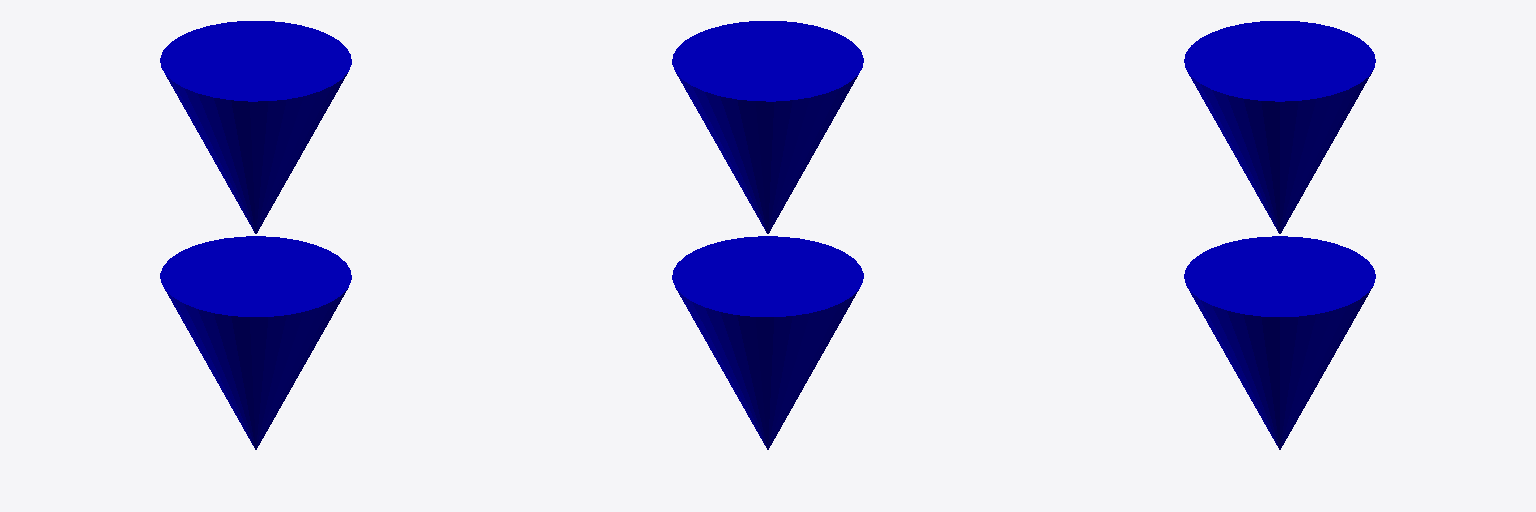
Rendered from indicationArrow.obj.
3 views of the same model, side by side, from view 1: azimuth 30°, elevation 25°; view 2: azimuth 150°, elevation 25°; view 3: azimuth 270°, elevation 25° (orthographic).
Parts seen in each view (by area): view 1: Cone_Cone.002, Cone.001; view 2: Cone_Cone.002, Cone.001; view 3: Cone_Cone.002, Cone.001.
Boxes of the visible parts, box(x1,y1,x2,y2) form: Cone_Cone.002: box(160, 236, 351, 449); Cone.001: box(160, 21, 351, 233); Cone_Cone.002: box(672, 236, 863, 449); Cone.001: box(672, 21, 863, 233); Cone_Cone.002: box(1184, 236, 1375, 449); Cone.001: box(1184, 21, 1375, 233).
Bounding box in the file's own units: 0.6 × 1.34 × 0.6.